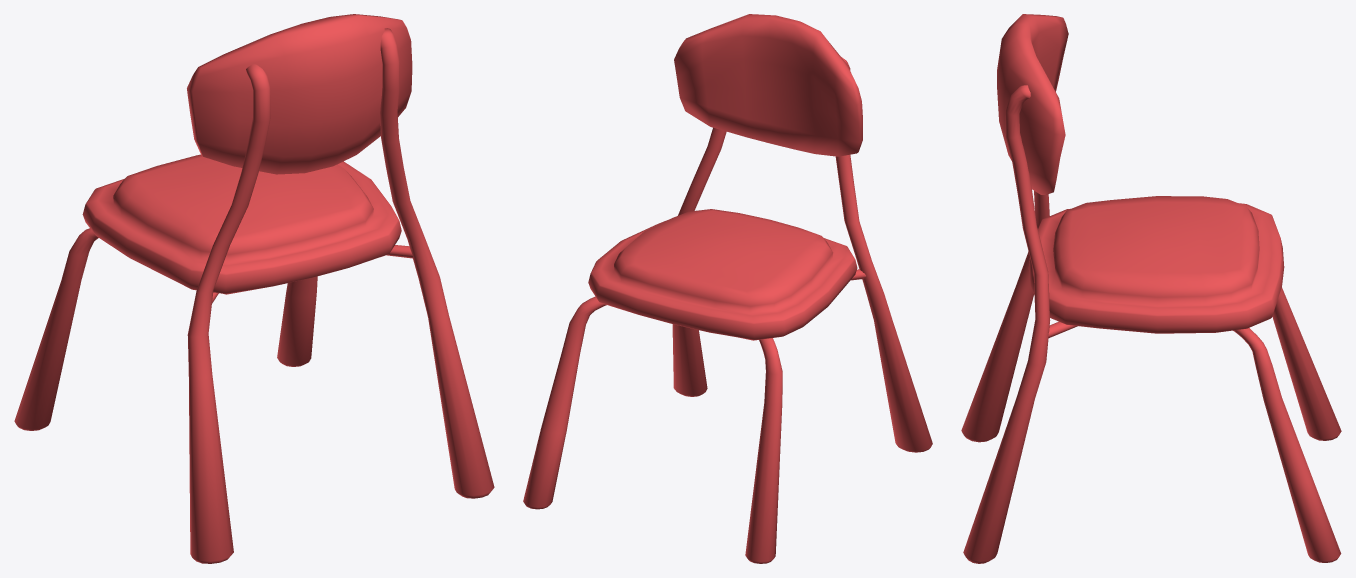
File: S_Chaise.fbx
3 views of the same model, side by side, from view 1: azimuth 30°, elevation 25°; view 2: azimuth 150°, elevation 25°; view 3: azimuth 270°, elevation 25° (orthographic). The views are drawn at different scales.
Parts seen in each view (by area): view 1: Assise_low, Dossier_low, Barreau_02_low, Barreau_fer_low; view 2: Assise_low, Dossier_low, Barreau_fer_low, Barreau_02_low; view 3: Assise_low, Barreau_02_low, Barreau_fer_low, Dossier_low.
Part boxes in pixels (x1,y1,x2,y2): Assise_low: (82, 154, 401, 294); Dossier_low: (187, 14, 412, 174); Barreau_02_low: (187, 28, 494, 563); Barreau_fer_low: (14, 228, 412, 430); Assise_low: (588, 209, 857, 340); Dossier_low: (674, 14, 862, 156); Barreau_fer_low: (523, 269, 865, 563); Barreau_02_low: (672, 57, 932, 452); Assise_low: (1028, 196, 1284, 333); Barreau_02_low: (961, 85, 1050, 563); Barreau_fer_low: (1048, 287, 1341, 562); Dossier_low: (997, 14, 1068, 194).
Size of the model in its own units: 0.6808 by 1.06 by 0.7815.
